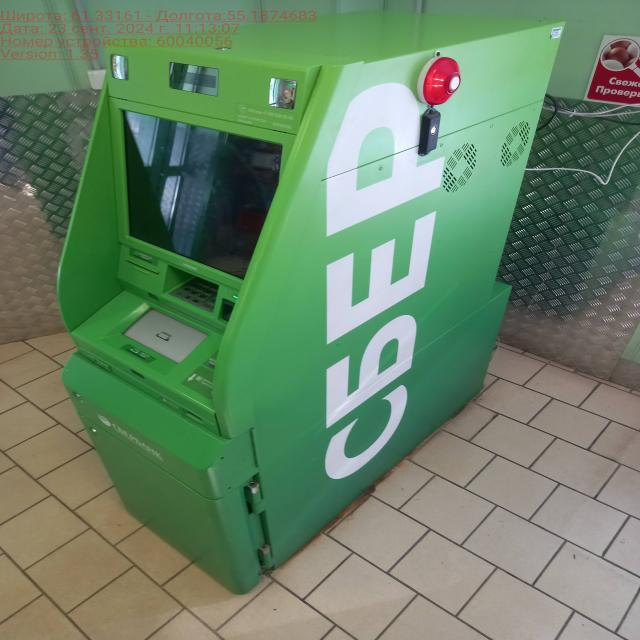bank: (53, 21, 566, 590)
